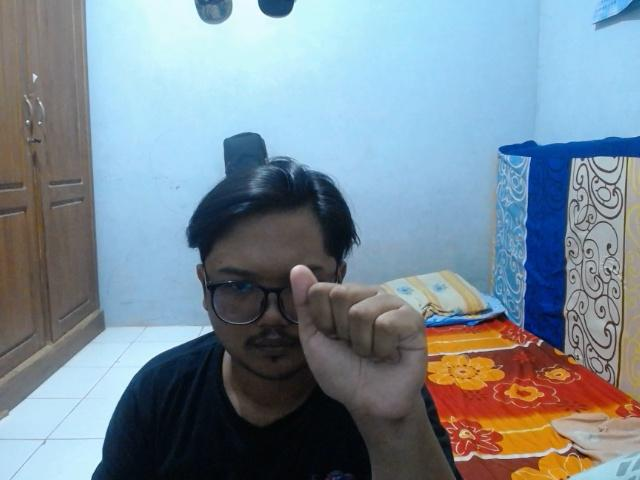Grab: (286, 257, 433, 429)
